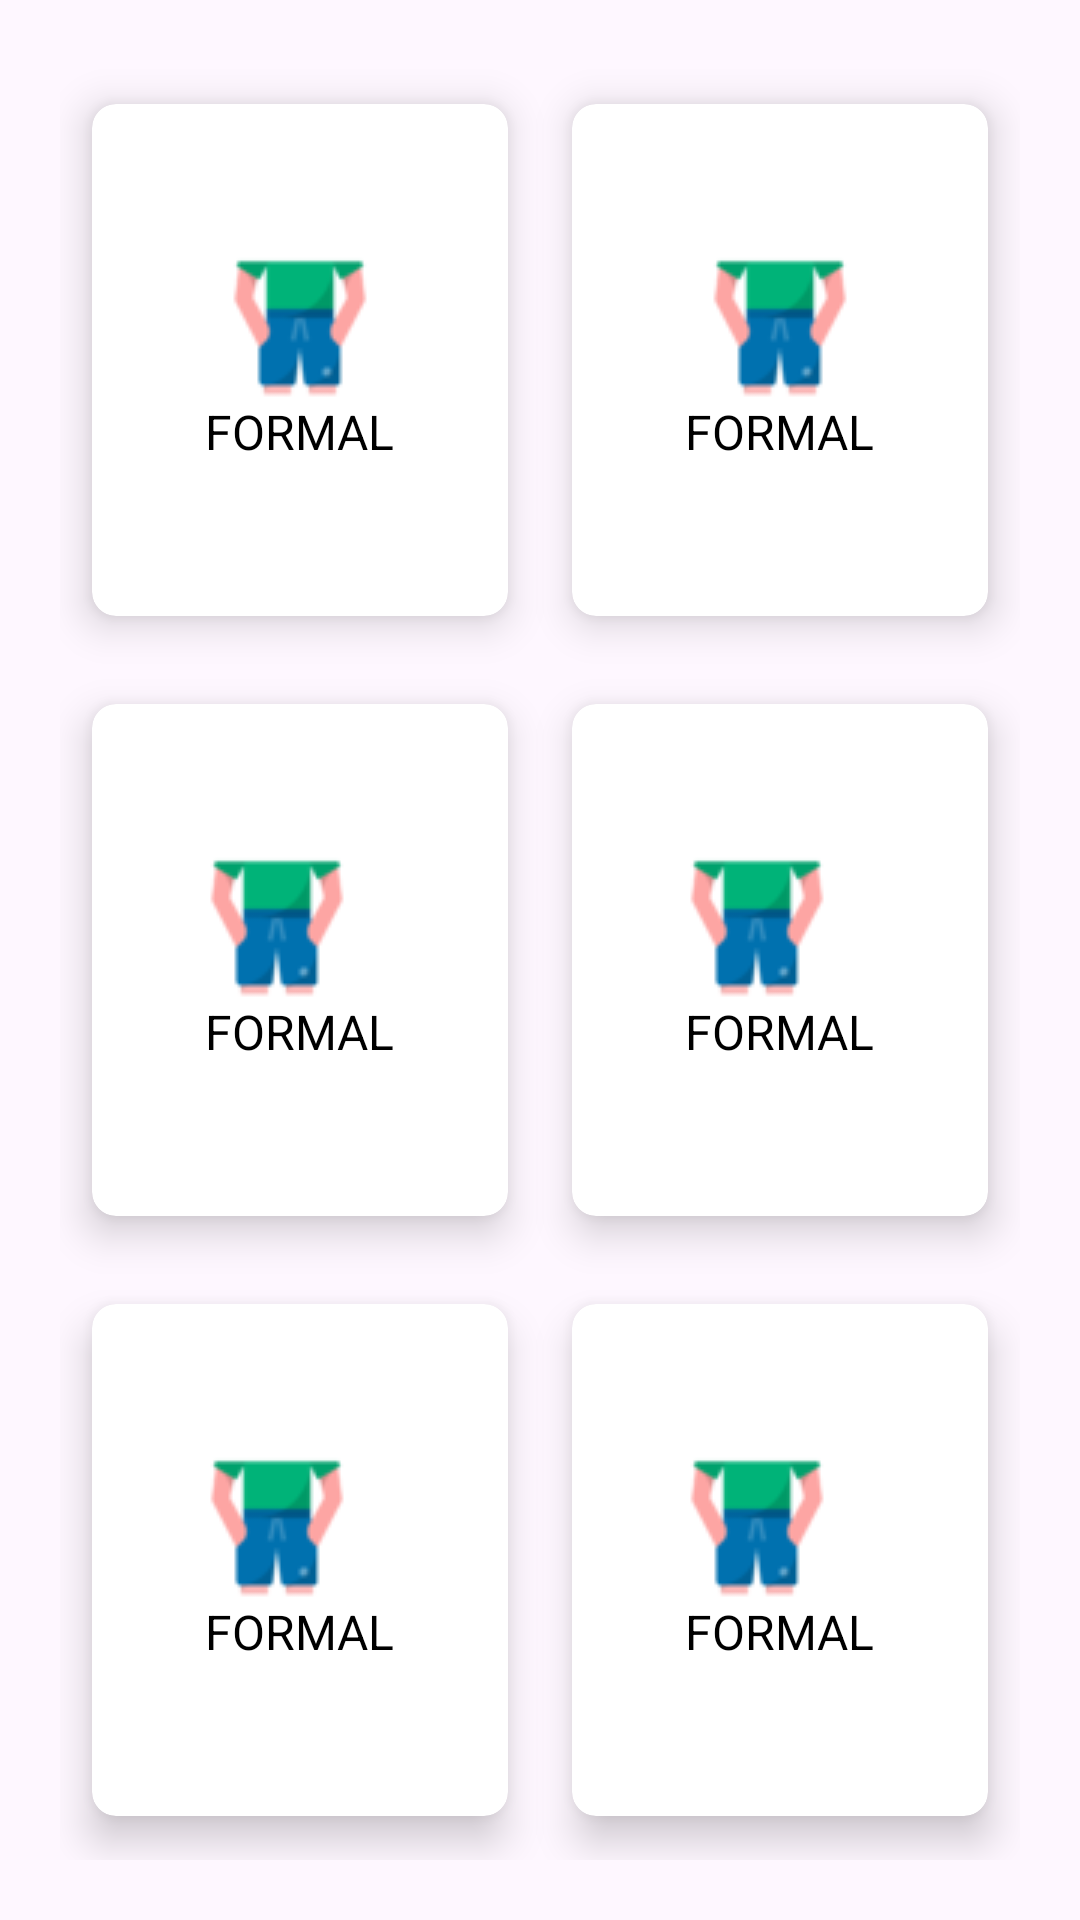

Where to tap for icons on this 1080x1920 app screen, as [x,y]:
fotito: [300,327], [780,327], [277,927], [757,927], [277,1527], [757,1527]
